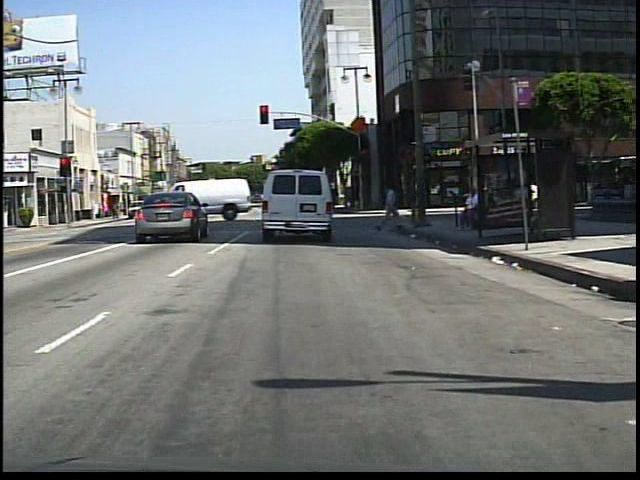person: (377, 179, 403, 235), (458, 186, 482, 234), (138, 193, 153, 218)
